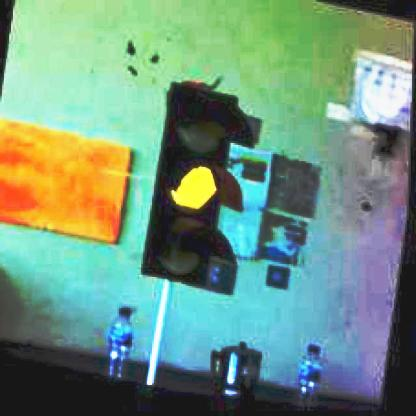Traffic Light -Yellow-: (145, 82, 262, 299)
